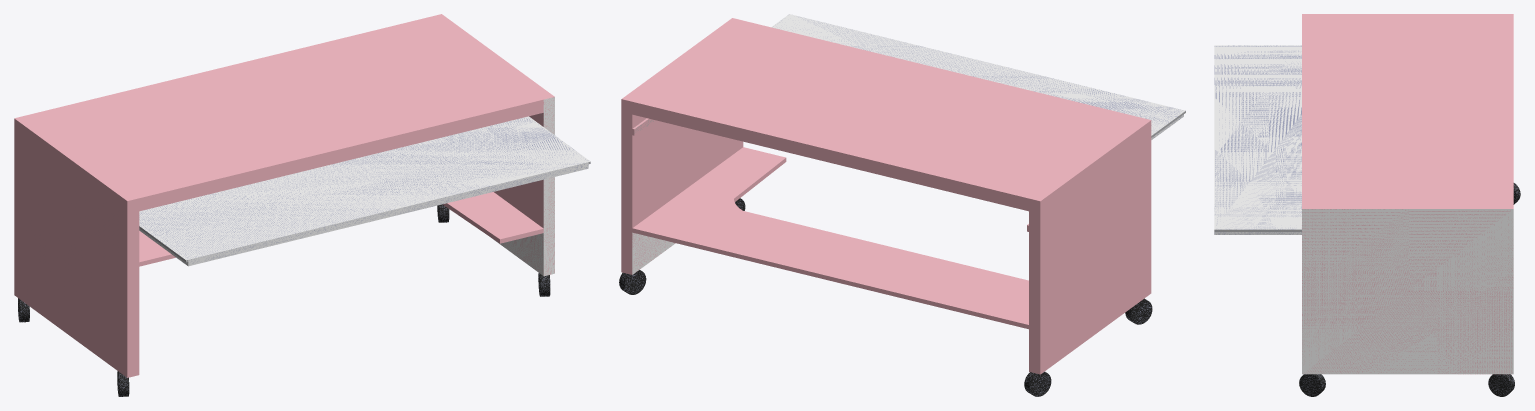
Rendered from masa.dae.
The picture shows the model from 3 angles, left to right: view 1: azimuth 30°, elevation 25°; view 2: azimuth 150°, elevation 25°; view 3: azimuth 270°, elevation 25°; orthographic projection. The views are drawn at different scales.
Visible parts, largest first — view 1: SketchUp (×3); view 2: SketchUp (×3), Tekerlek (×2); view 3: SketchUp (×3), Tekerlek (×2).
Boxes of the visible parts, <box> form: SketchUp (×3): <box>14,14,590,377</box>; SketchUp (×3): <box>621,14,1185,374</box>; Tekerlek (×2): <box>619,270,1051,396</box>; SketchUp (×3): <box>1214,14,1513,374</box>; Tekerlek (×2): <box>1299,374,1514,396</box>.
Size of the model in its own units: 82.24 by 53.57 by 36.37.
